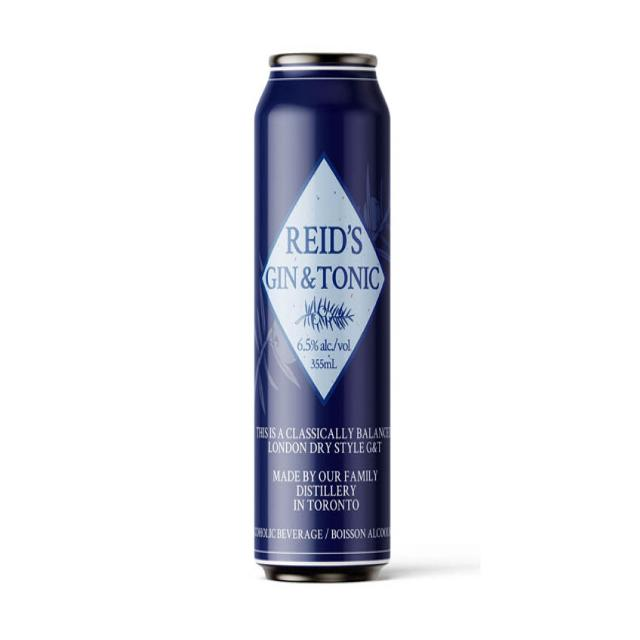Cans: (245, 31, 400, 596)
